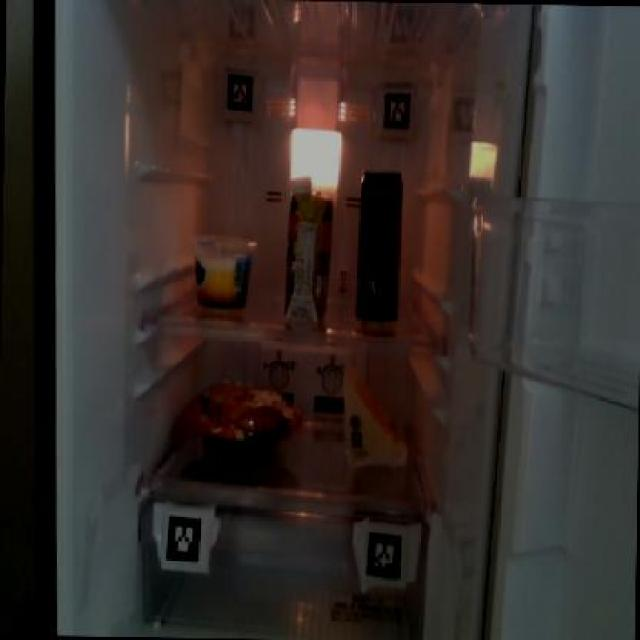bento: (179, 382, 301, 461)
energy_drink: (354, 163, 401, 323)
sandwich: (339, 349, 408, 471), (190, 230, 256, 312)
smoothie: (280, 172, 335, 326)
